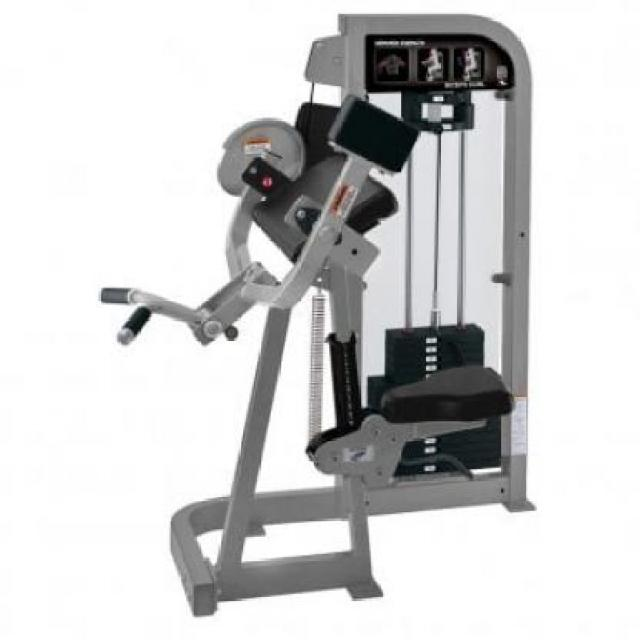arm curl machine: (101, 15, 538, 617)
